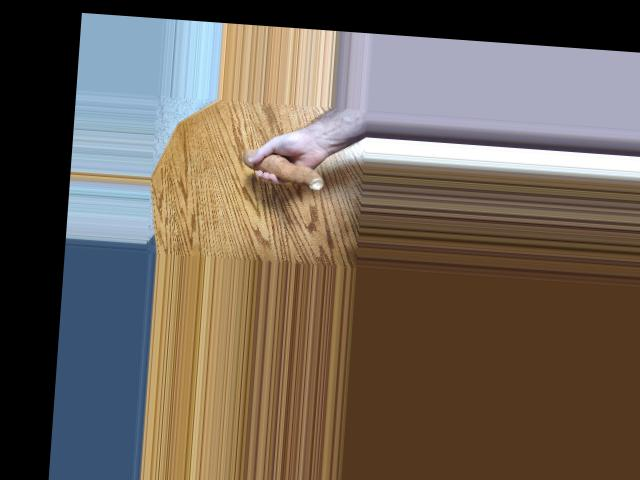sweet_potato: (237, 149, 330, 190)
